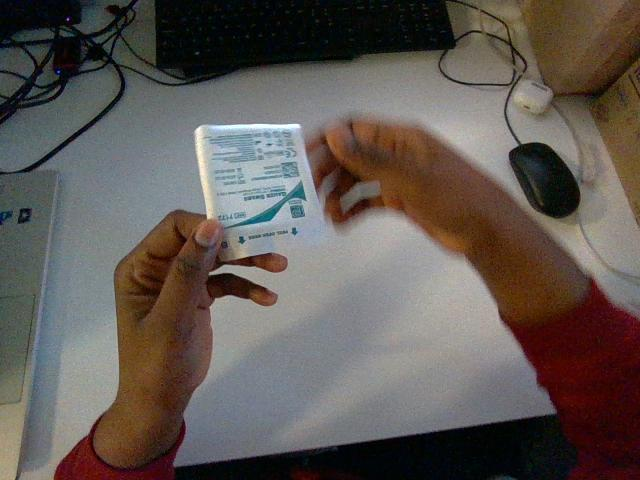gauze: (195, 124, 323, 260)
